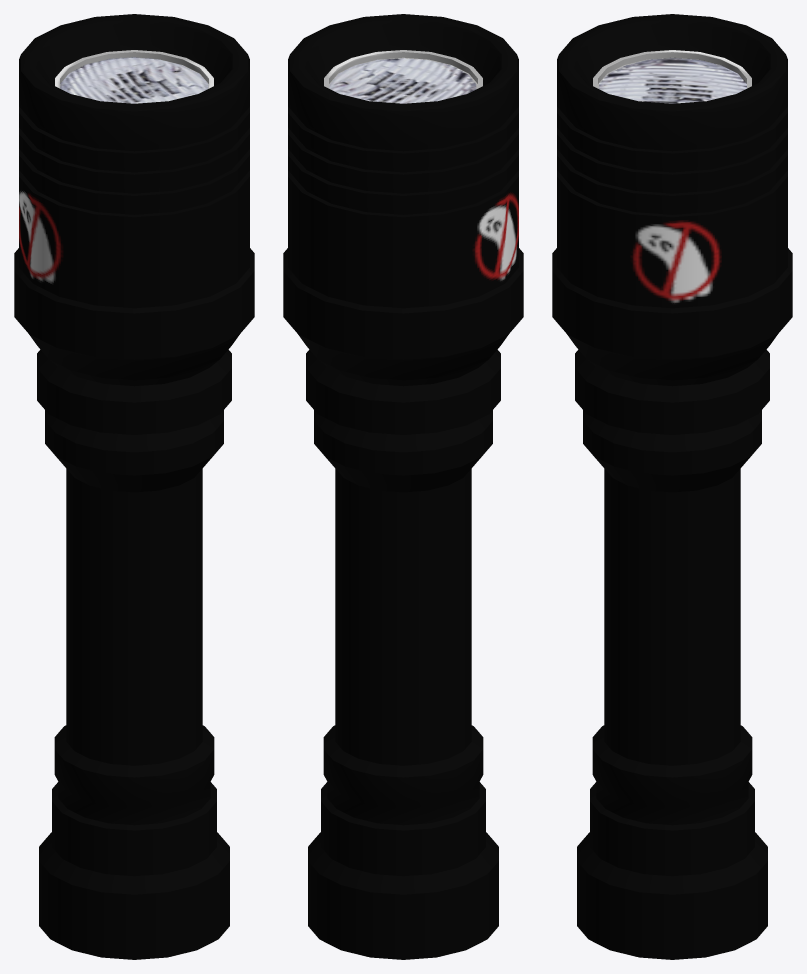
Rendered from light.fbx.
The picture shows the model from 3 angles, left to right: view 1: azimuth 30°, elevation 25°; view 2: azimuth 150°, elevation 25°; view 3: azimuth 270°, elevation 25°; orthographic projection.
Parts seen in each view (by area): view 1: Cylinder005; view 2: Cylinder005; view 3: Cylinder005.
Boxes of the visible parts, bbox=[...] form: Cylinder005: bbox=[14, 14, 254, 959]; Cylinder005: bbox=[283, 14, 523, 959]; Cylinder005: bbox=[552, 14, 792, 959].
Bounding box in the file's own units: 17.85 × 69.34 × 17.58.
